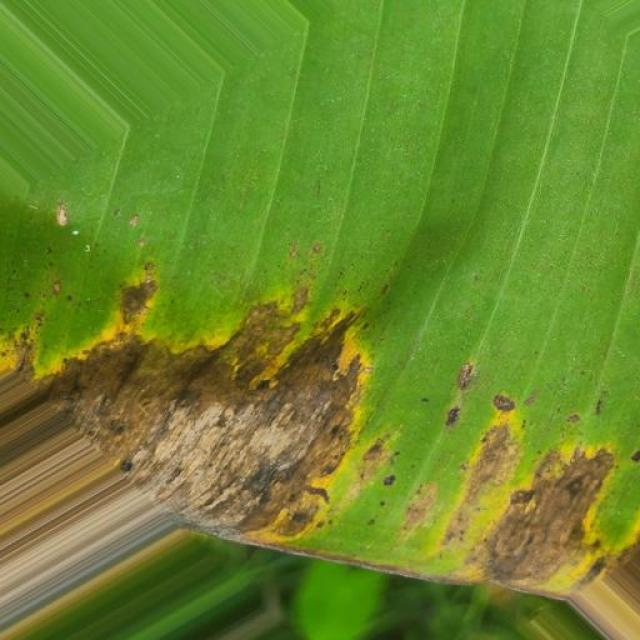Early_rust: (0, 173, 640, 607)
